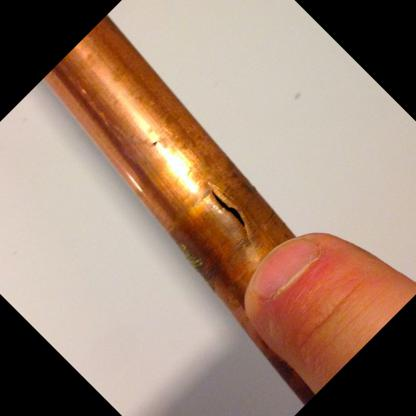burst: (202, 184, 262, 240)
